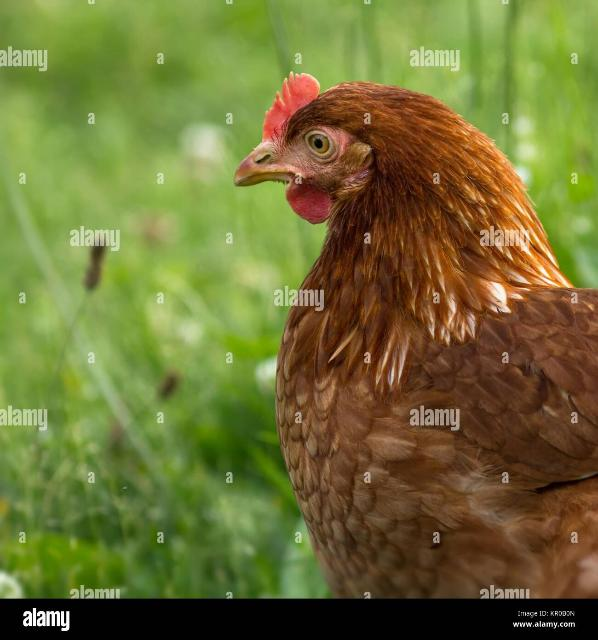Chicken: (233, 70, 598, 596)
